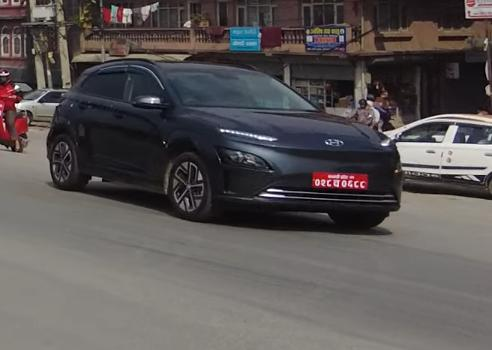car: (40, 58, 407, 232)
scooter: (0, 89, 34, 156)
taxi: (382, 111, 492, 199)
